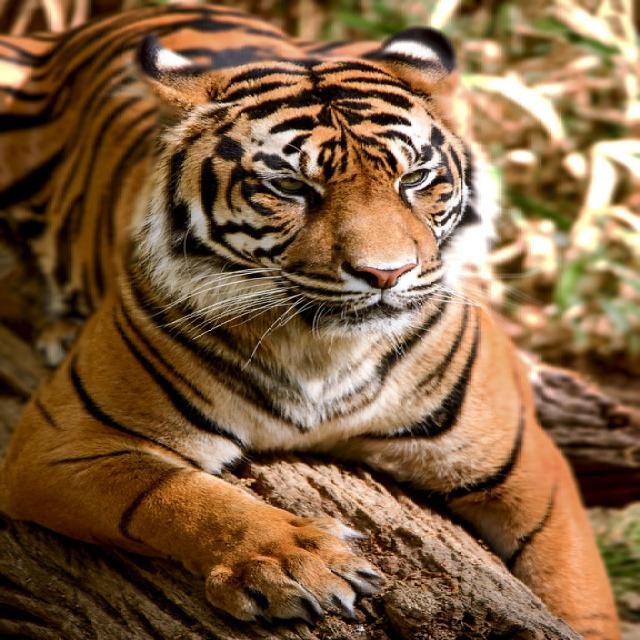Tiger: (5, 6, 579, 628)
